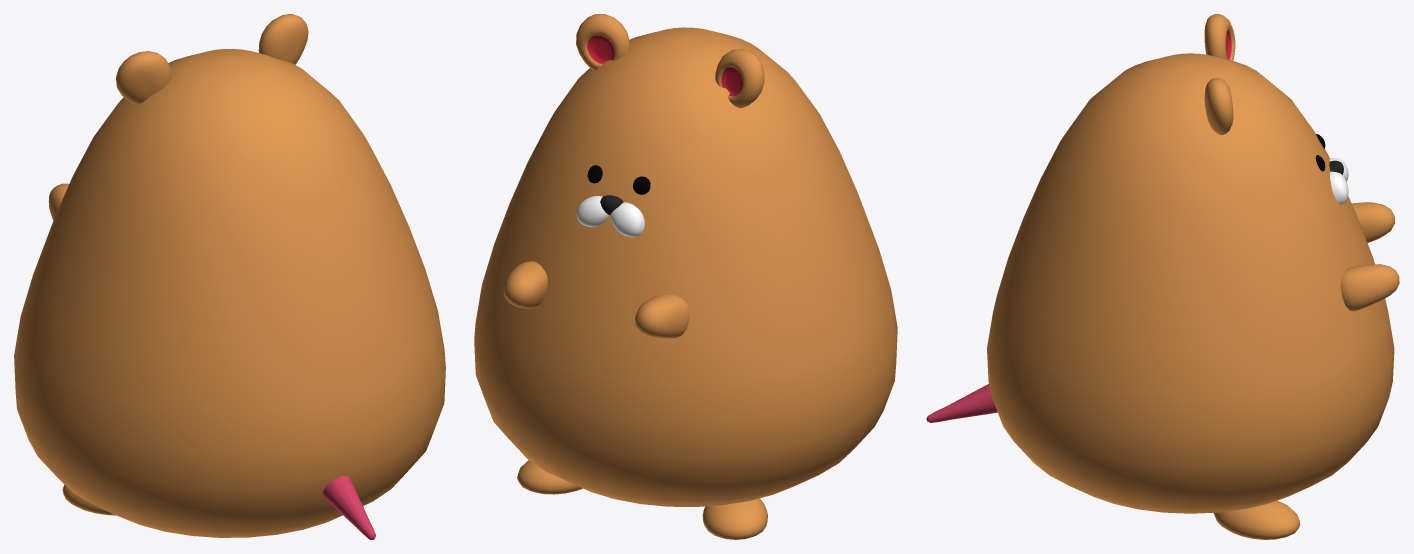
Rendered from HamsterModel.FBX.
The picture shows the model from 3 angles, left to right: view 1: azimuth 30°, elevation 25°; view 2: azimuth 150°, elevation 25°; view 3: azimuth 270°, elevation 25°; orthographic projection. The views are drawn at different scales.
Parts seen in each view (by area): view 1: Sphere001; view 2: Sphere001; view 3: Sphere001.
Part boxes in pixels (left/top/right/bottom): Sphere001: left=14, top=14, right=445, bottom=539; Sphere001: left=474, top=14, right=897, bottom=539; Sphere001: left=926, top=14, right=1399, bottom=539.
Size of the model in its own units: 33.2 by 39.48 by 38.54.
